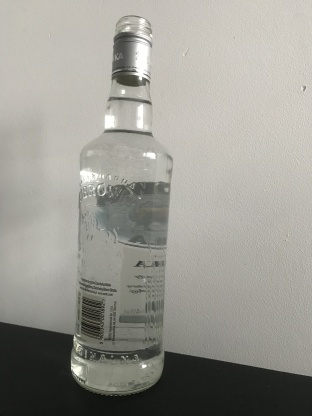nakretka: (109, 12, 154, 88)
